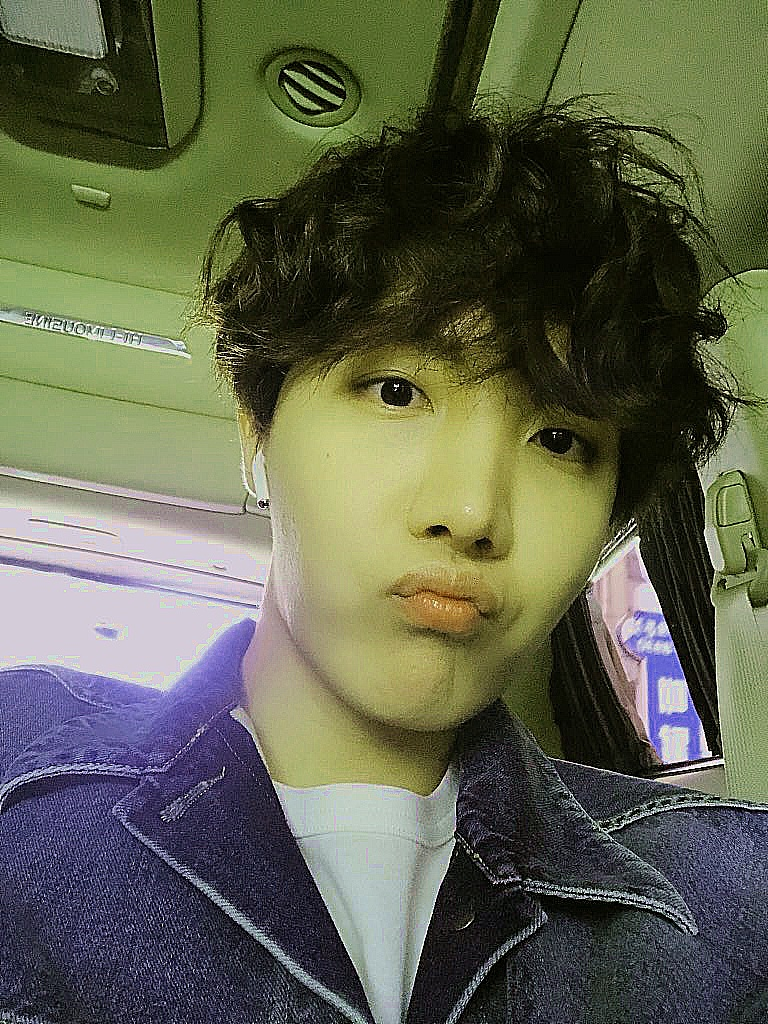earphone: (237, 400, 270, 508)
